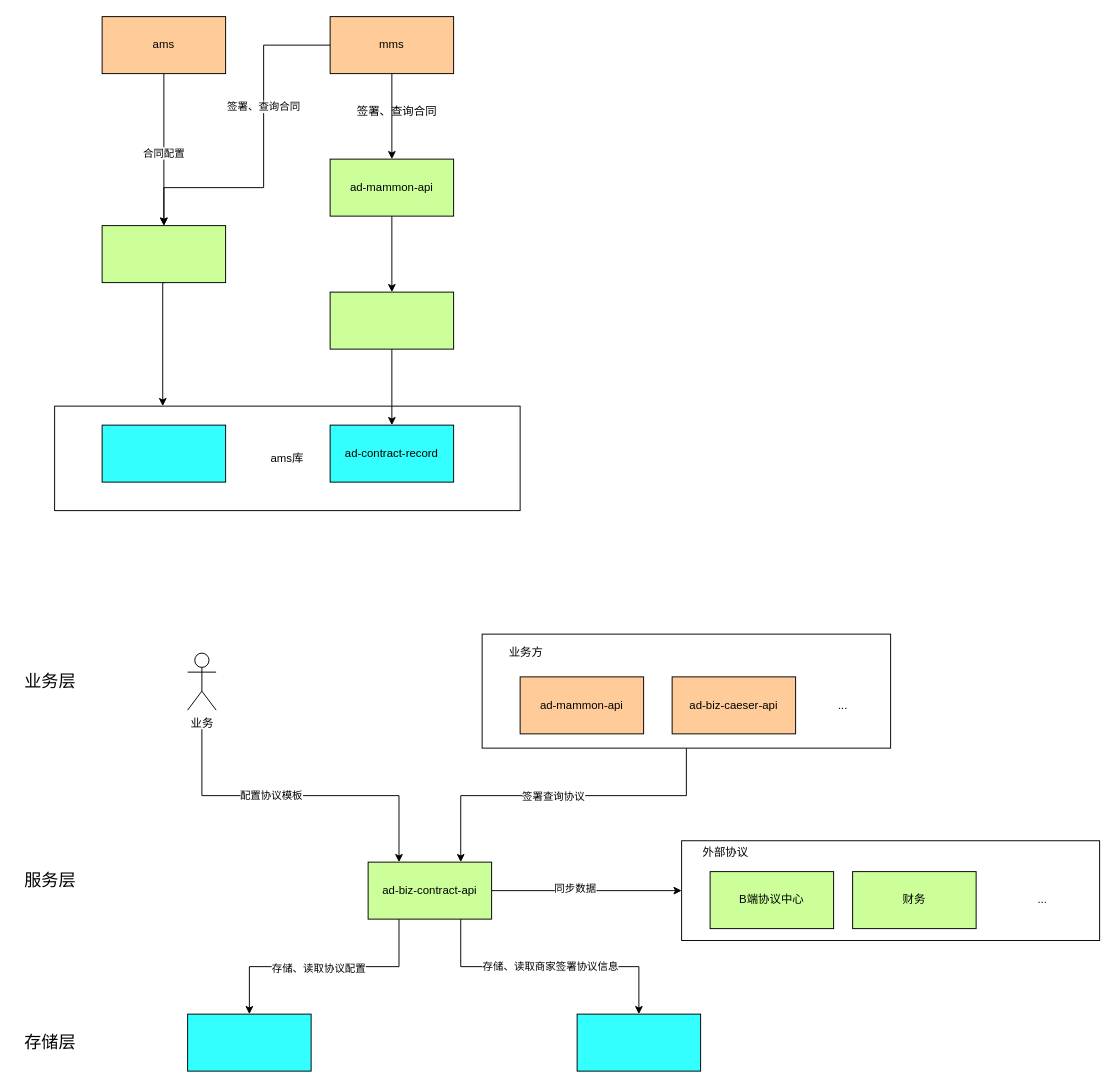
The diagram is 1116 pixels wide and 1088 high, and some of its shapes have lost their labels. Here are the shapes that lost their labels. From the top down, the centre of each, then its label:
(x=163, y=254): ad-biz-trident-api
(x=391, y=320): ad-biz-ams-api
(x=163, y=453): ad-contract-templete
(x=249, y=1042): ad_biz_contract_template
(x=638, y=1042): ad_biz_contract_record
